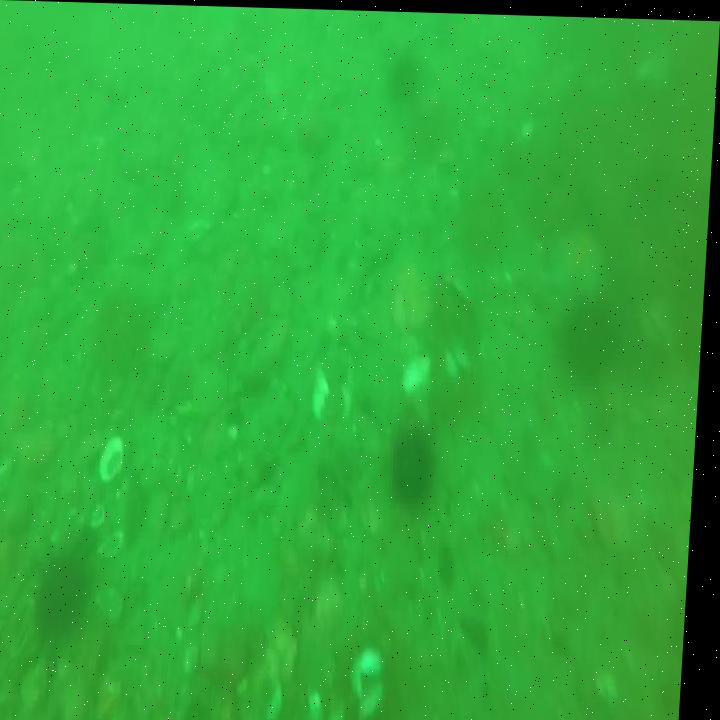echinus: (551, 294, 632, 381), (37, 562, 103, 643), (382, 429, 449, 498), (389, 37, 424, 99)
scallop: (354, 645, 391, 694), (103, 431, 131, 480), (100, 579, 132, 621), (444, 343, 478, 379), (317, 371, 335, 422), (105, 528, 133, 558), (94, 501, 112, 529), (120, 578, 123, 585)
